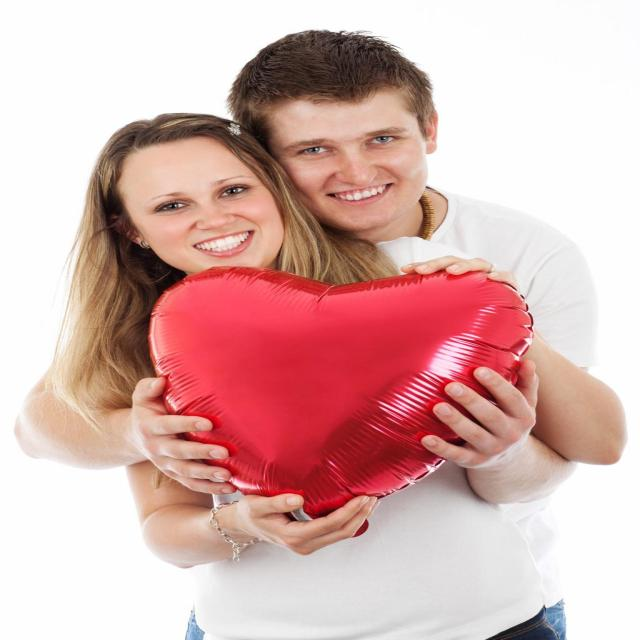Face: (106, 135, 301, 283), (260, 82, 452, 227)
